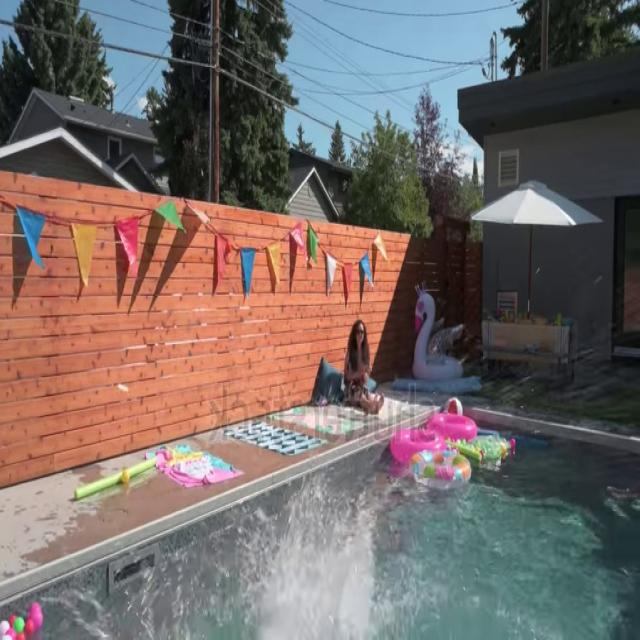adult: (342, 319, 384, 418)
